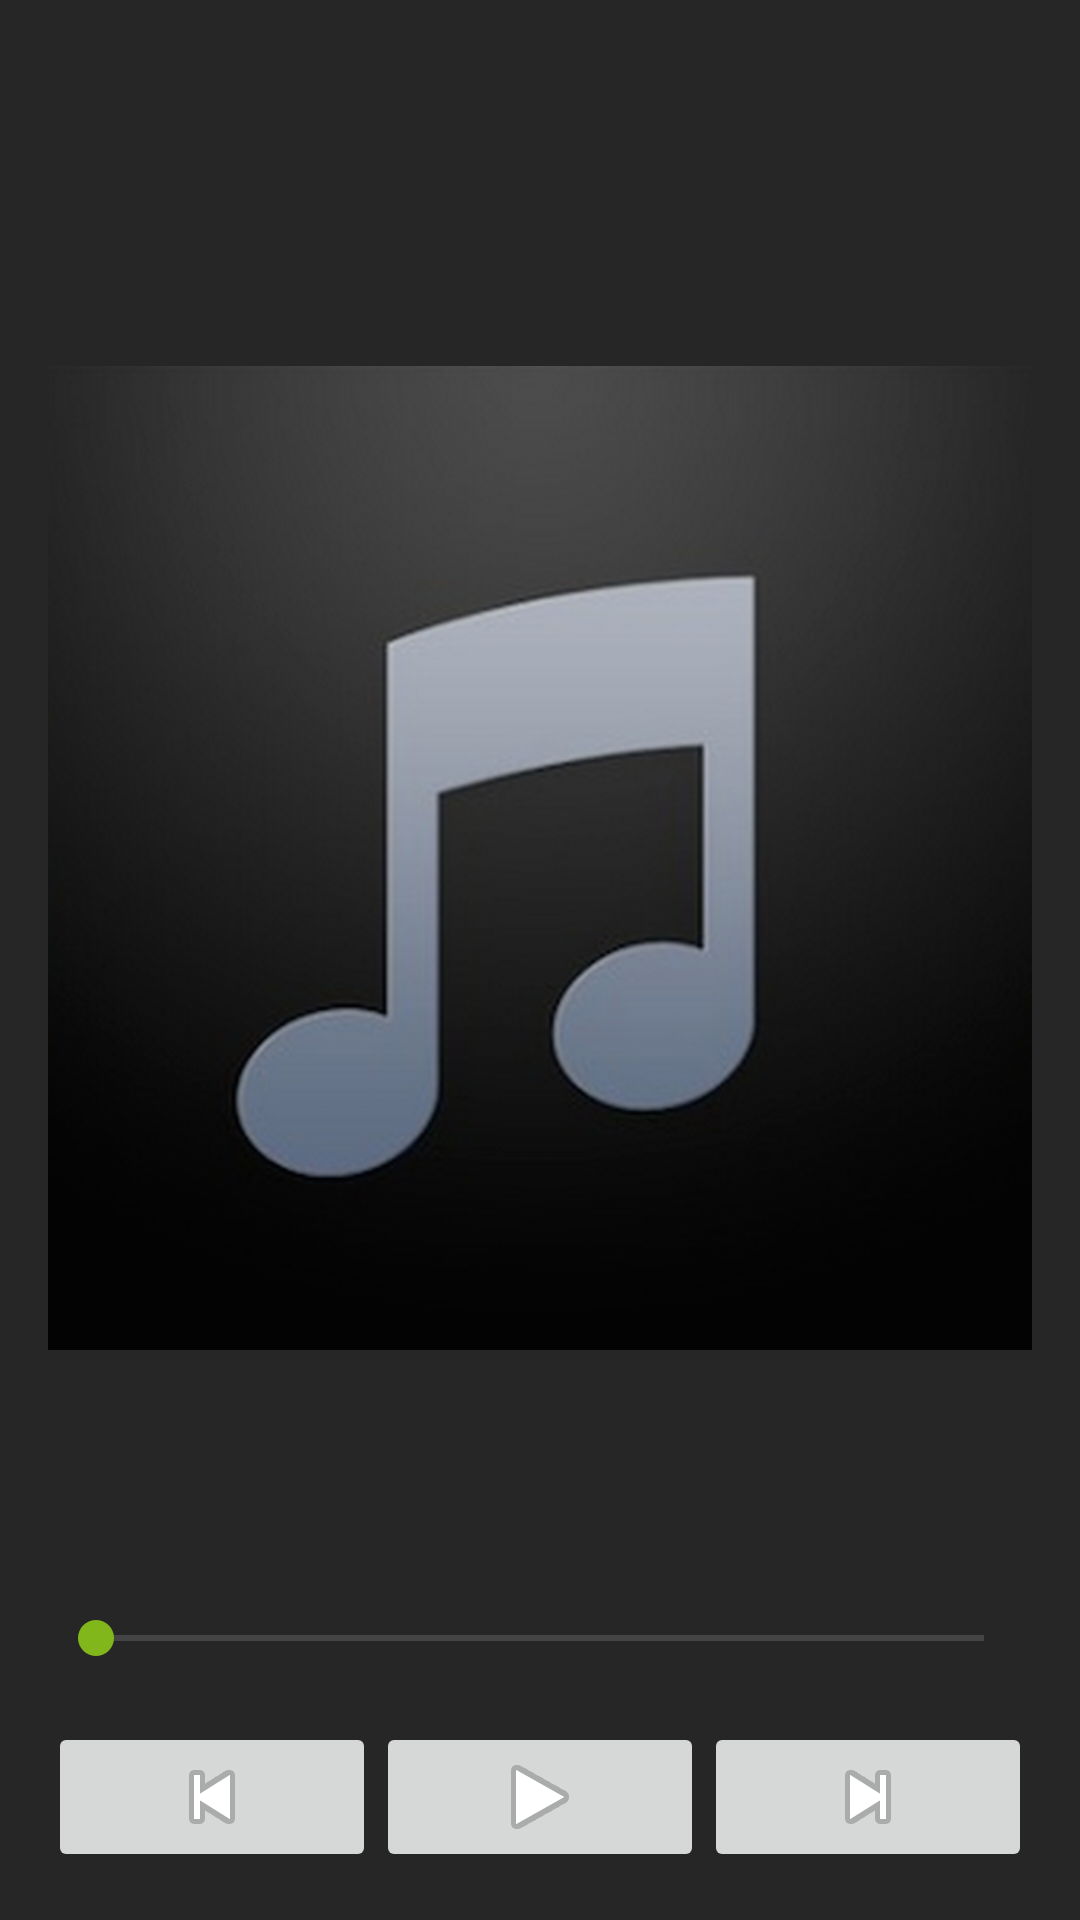

Named icons in this screenshot (1080px×1920px) and their bounding boxes, (x1, y1, x2, y2):
Next Song: (716, 1740, 1020, 1854)
Play/Pause song: (388, 1740, 692, 1854)
Previous song: (60, 1740, 364, 1854)
